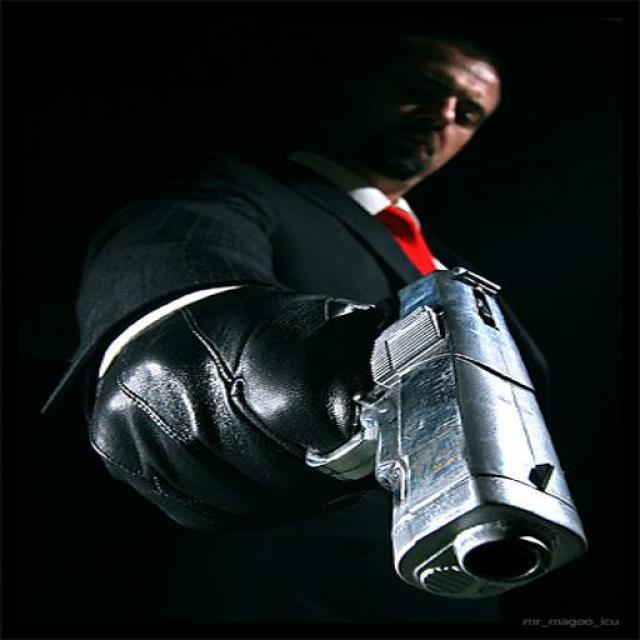pistol: (275, 265, 577, 595)
